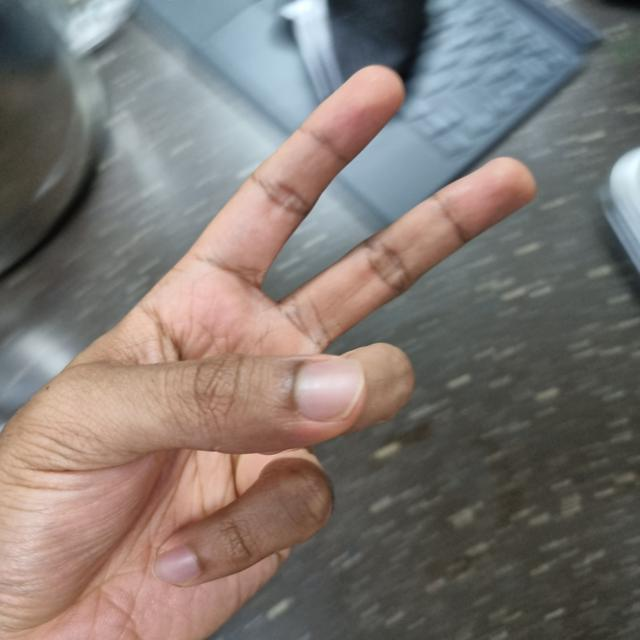Scissors: (16, 69, 528, 640)
